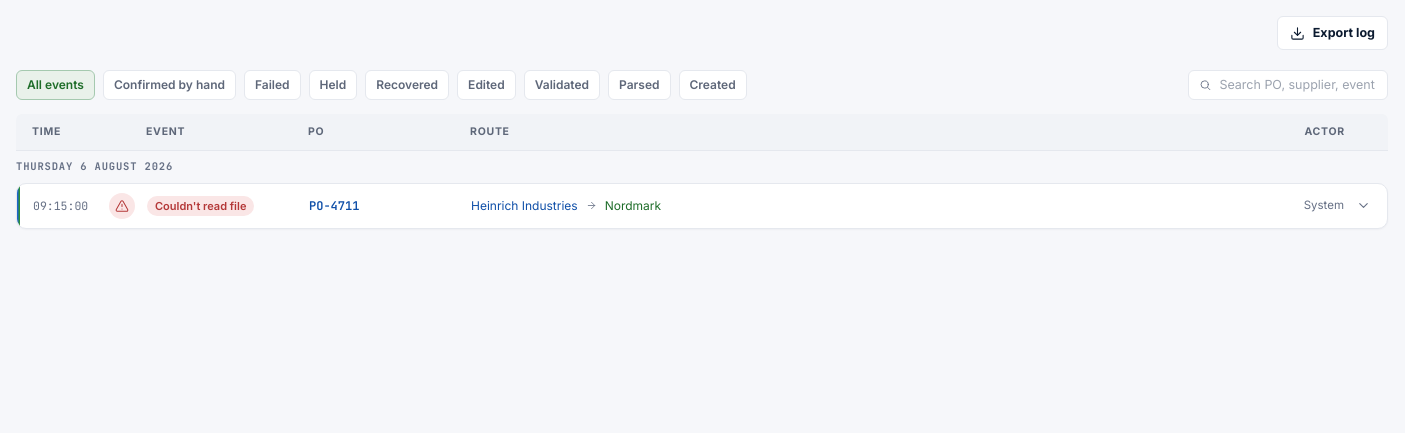
Test: CrossingsLog — the reason the backend already sent › ParseFailed renders the reason out of its own payload key
The image size is (1405, 433).
Click the button "PO-4711".
click(61, 205)  # box x1=17 y1=184 x2=1387 y2=228
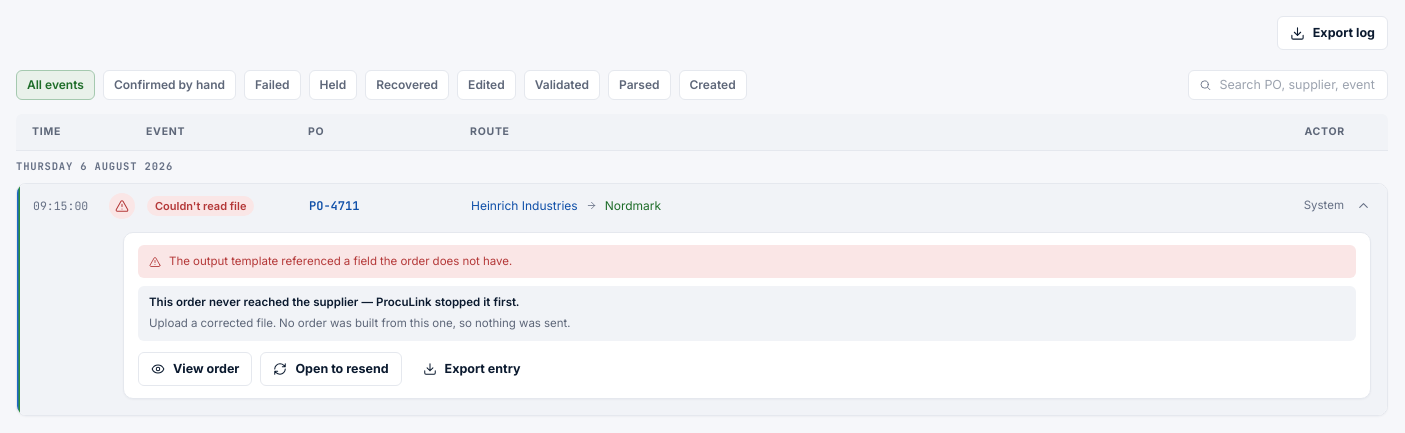
Now the element with test id "audit-reason" is shown, box x1=138 y1=244 x2=1356 y2=278
Now the element with test id "audit-reason" reads "The output template referenced a field the order does not have.", box x1=169 y1=254 x2=512 y2=268
